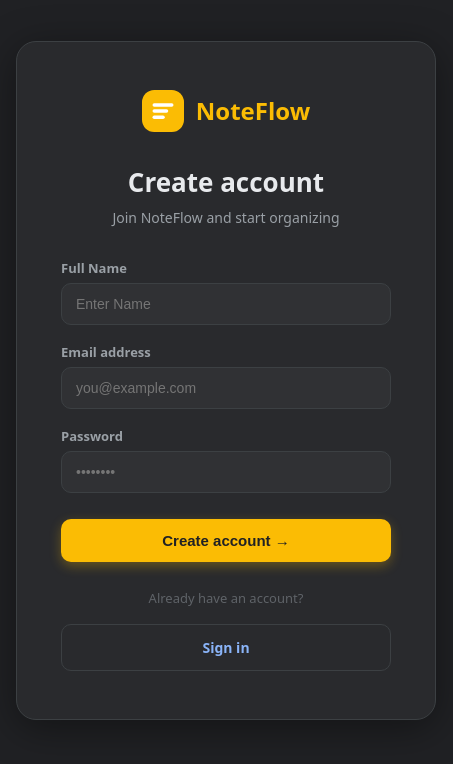
Test: Register Component › displays validation error on invalid email domain
This screenshot has width=453, height=764.
In the field with placeholder "Enter Name": (226, 304) top-left (61, 282), bottom-right (391, 324), type "John Doe"
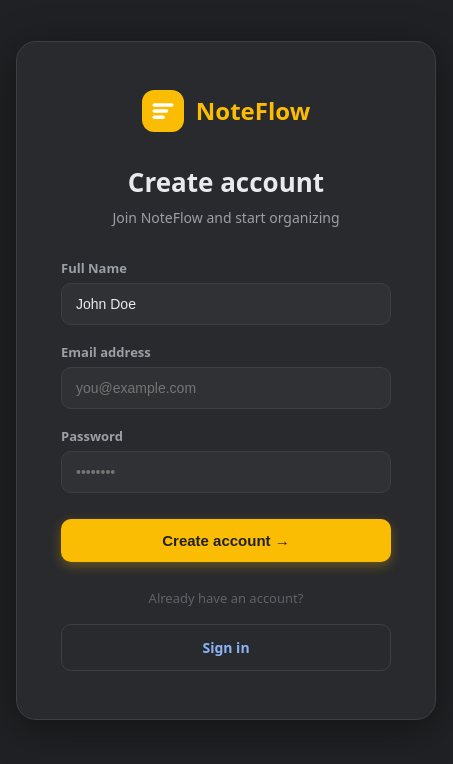
In the field with placeholder "you@example.com": (226, 388) top-left (61, 366), bottom-right (391, 408), type "john@example.com"
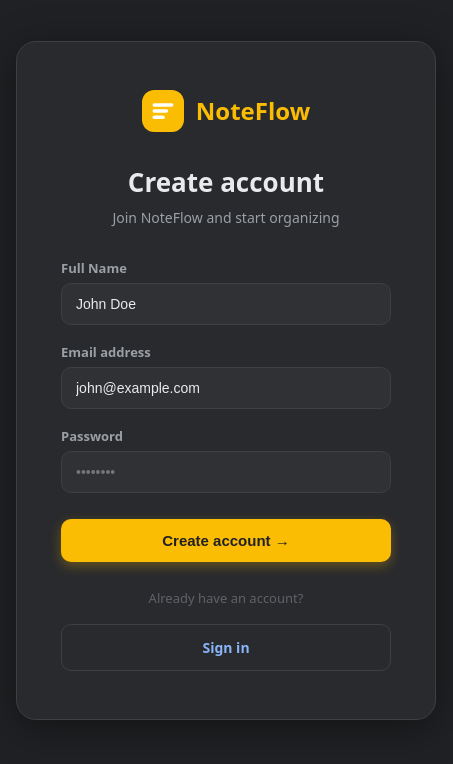
In the password field with placeholder "••••••••": (226, 472) top-left (61, 450), bottom-right (391, 492), type "password123"
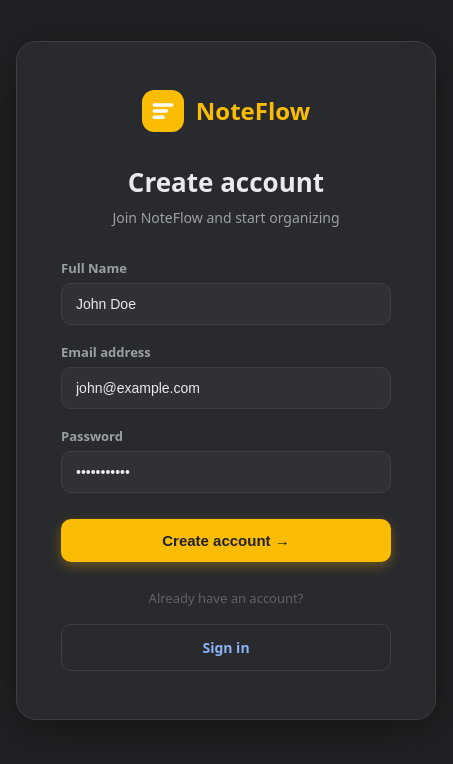
Click the button "Create account →": (226, 540) top-left (61, 518), bottom-right (391, 562)
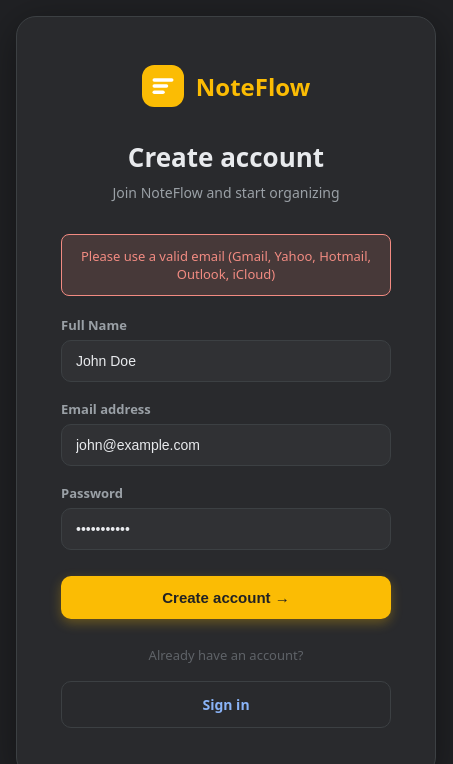
Now the text "Please use a valid email (Gmail, Yahoo, Hotmail, Outlook, iCloud)" is shown, box top-left (61, 234), bottom-right (391, 296)
